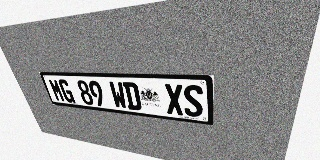8: (76, 80, 94, 105)
9: (87, 80, 106, 107)
D: (122, 82, 142, 111)
G: (57, 79, 76, 103)
M: (48, 79, 66, 102)
S: (183, 84, 203, 118)
W: (108, 81, 128, 109)
X: (164, 84, 184, 116)
